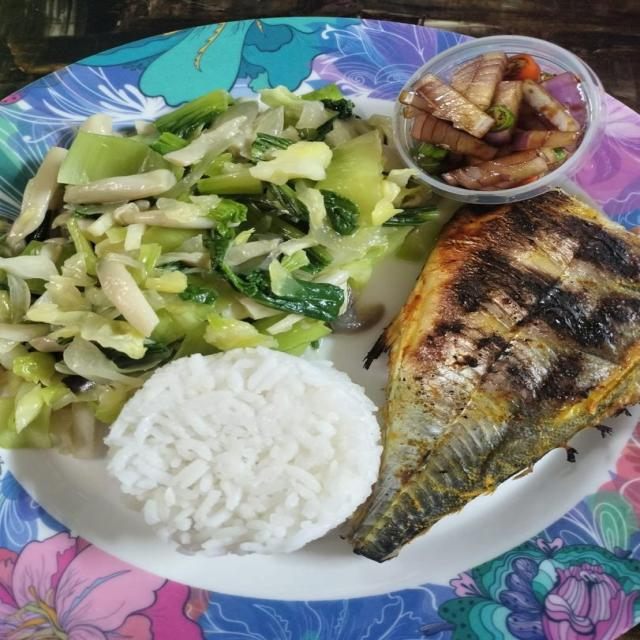Fish: (348, 182, 639, 560)
Plate: (3, 408, 639, 598)
Rice: (100, 348, 383, 560)
Vegetables: (0, 86, 442, 469)
